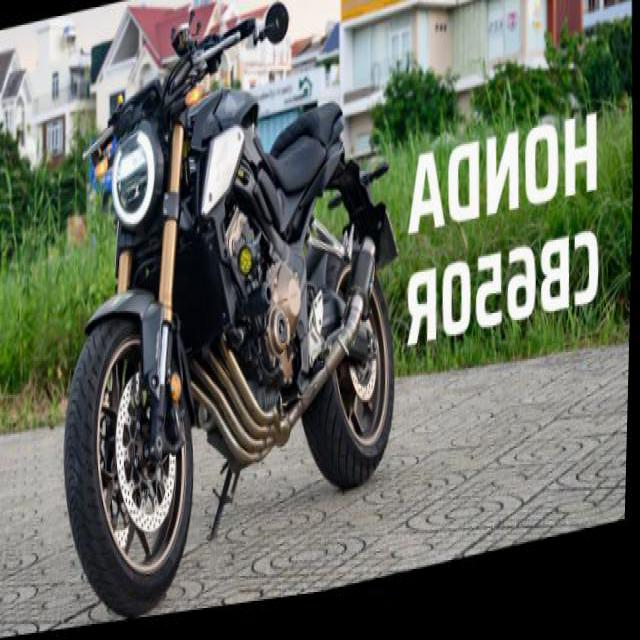CB650R: (51, 28, 412, 630)
